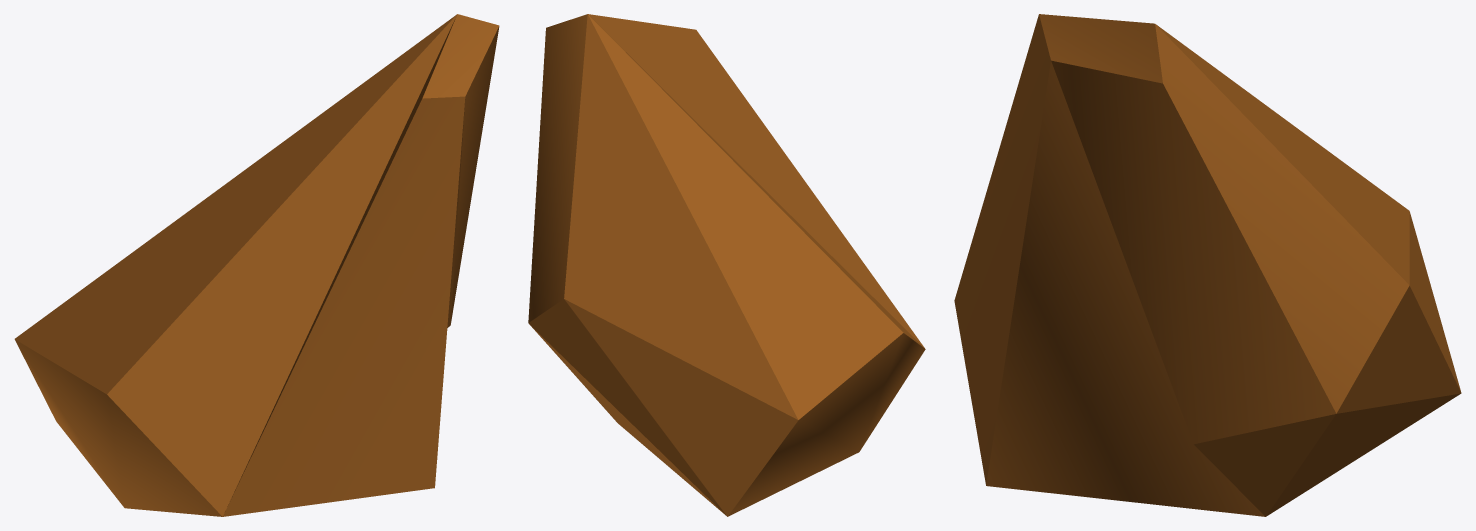
Rendered from Rock_Medium_Dirt_02.fbx.
3 views of the same model, side by side, from view 1: azimuth 30°, elevation 25°; view 2: azimuth 150°, elevation 25°; view 3: azimuth 270°, elevation 25° (orthographic). The views are drawn at different scales.
Parts seen in each view (by area): view 1: Rock_Medium_Dirt_02; view 2: Rock_Medium_Dirt_02; view 3: Rock_Medium_Dirt_02.
Part boxes in pixels (x1,y1,x2,y2): Rock_Medium_Dirt_02: [14, 14, 499, 516]; Rock_Medium_Dirt_02: [528, 14, 925, 516]; Rock_Medium_Dirt_02: [954, 14, 1461, 516].
Bounding box in the file's own units: 46.89 × 47.35 × 39.88.
